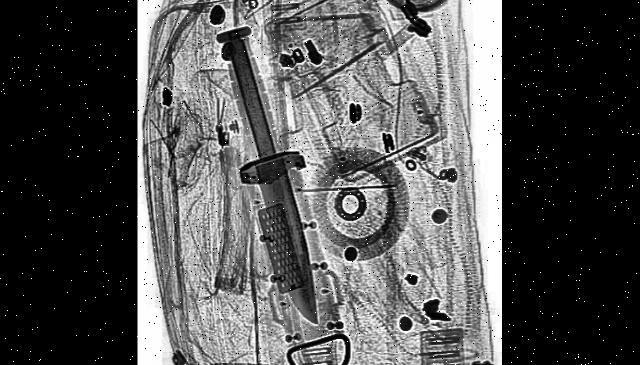Knife: (201, 0, 346, 353)
